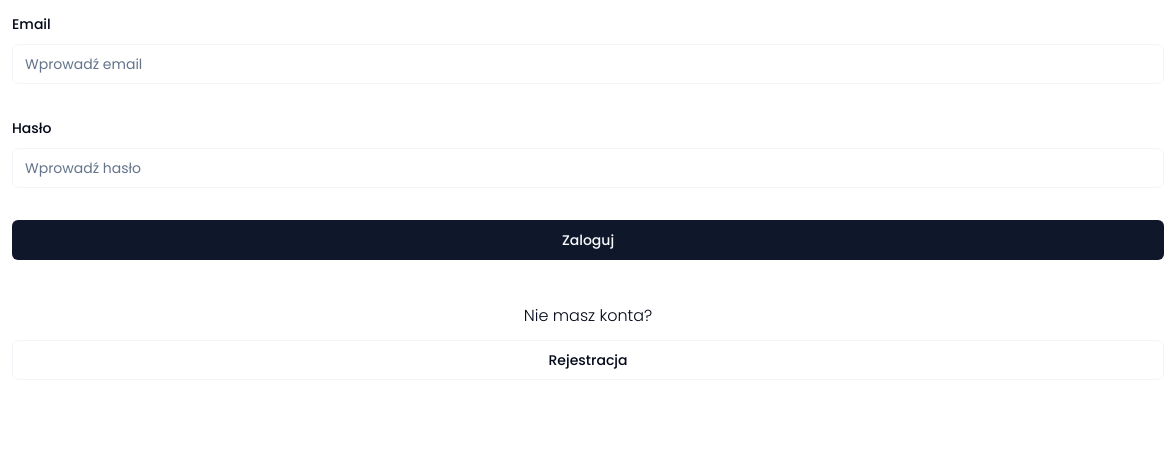
LoginForm › should show error messages when submited form is empty
Click the button "Zaloguj".
click(588, 240)  # box [12,220,1164,260]
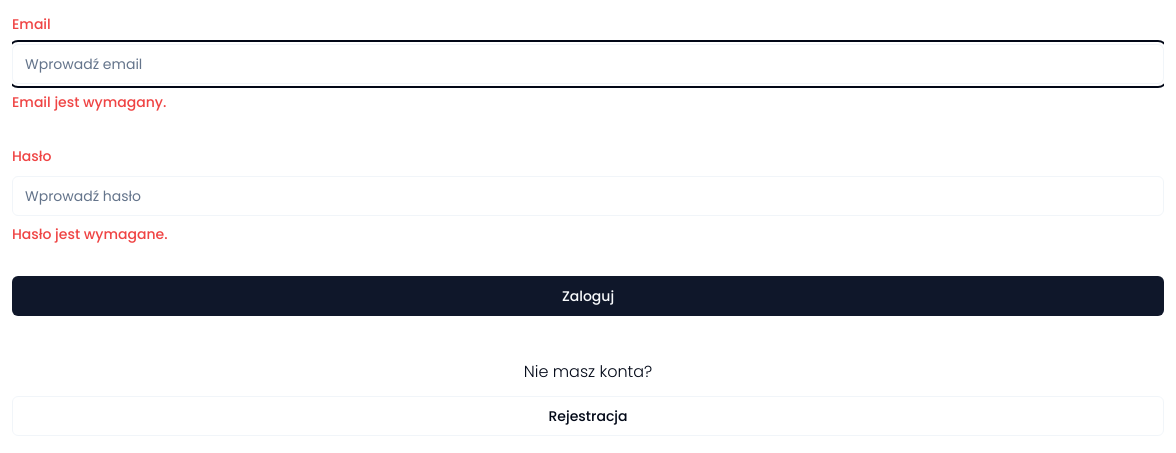
Now the text "Email jest wymagany." is shown, box [12,92,166,112]
Now the text "Hasło jest wymagane." is shown, box [12,224,168,244]
